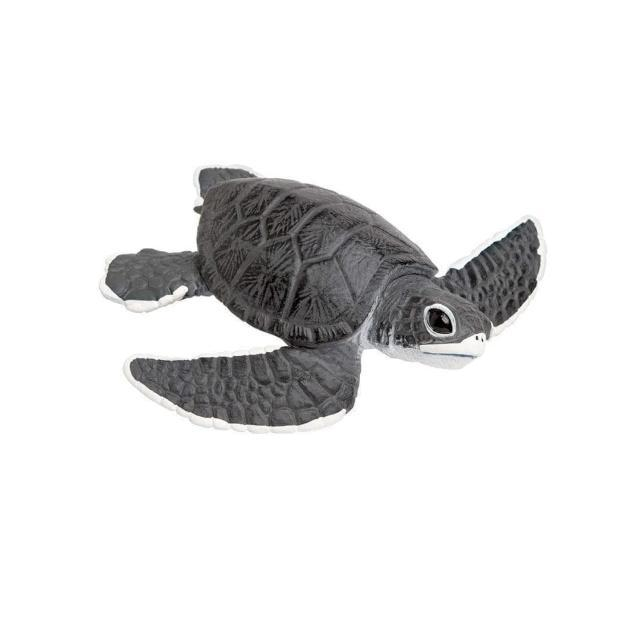turtle: (97, 163, 542, 431)
